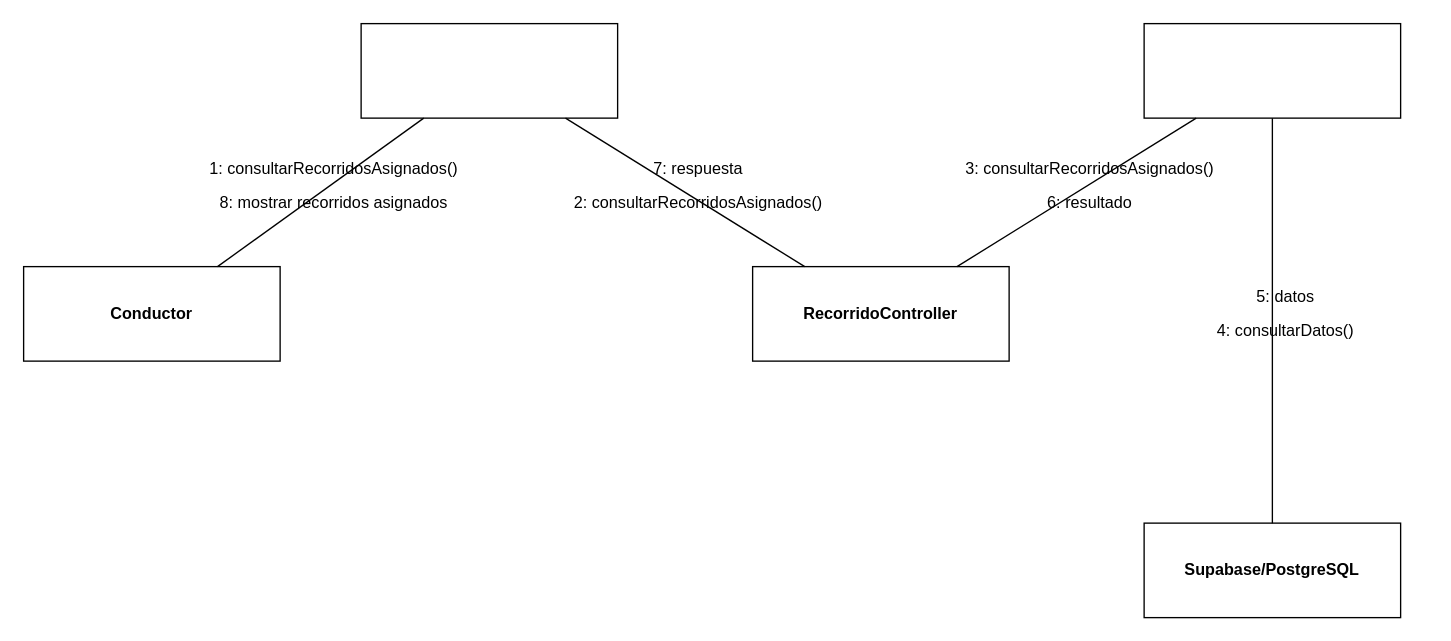
This 1451x641 diagram has some shape labels left out. Each missing label, with the centre of its shape:
"Interfaz Conductor" goes at (489,70).
"Recorrido" goes at (1272,70).
